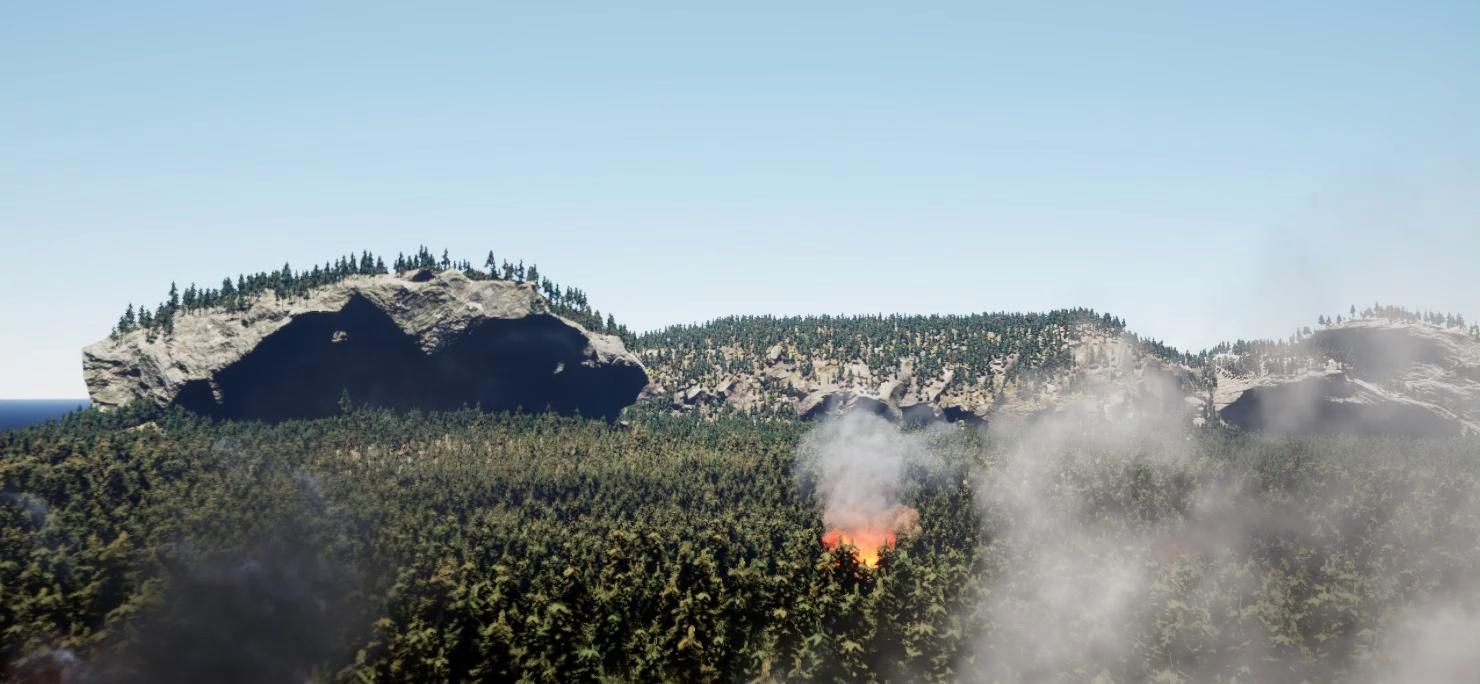fire: (814, 519, 907, 565)
smoke: (912, 191, 1479, 683), (73, 496, 391, 678), (797, 406, 943, 557)
